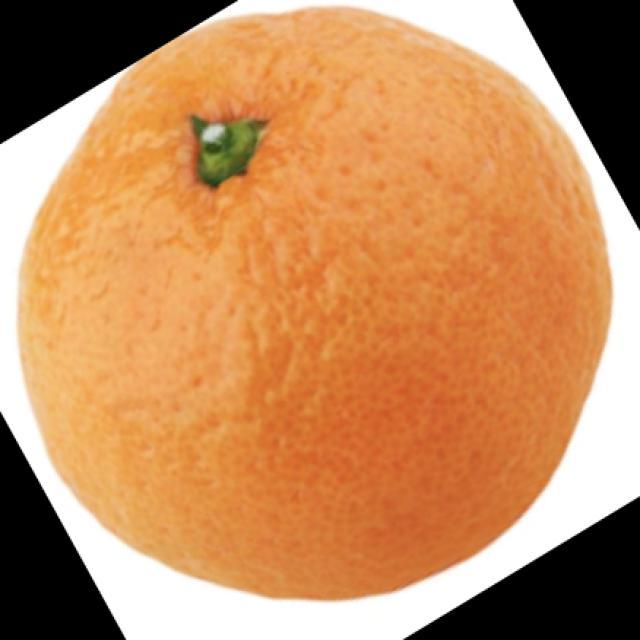matang: (22, 9, 610, 597)
